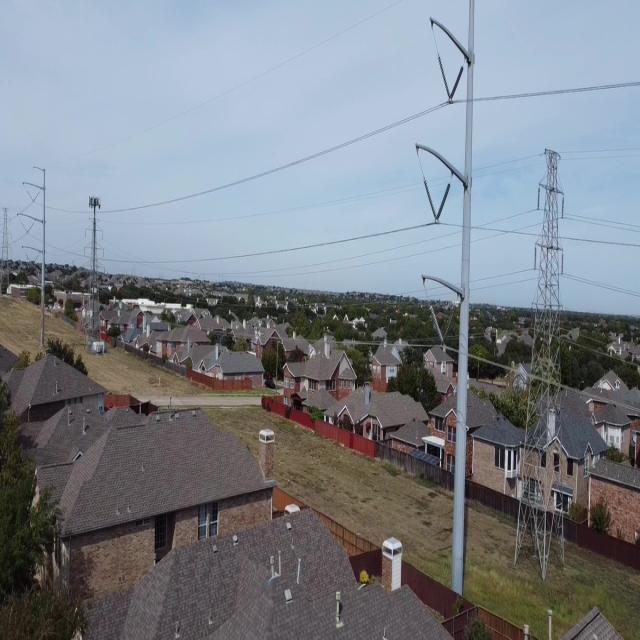杆塔: (508, 138, 576, 581), (80, 191, 112, 353), (0, 204, 13, 298)
正常绝缘子: (434, 301, 460, 366), (431, 40, 455, 110), (429, 174, 457, 233), (416, 167, 441, 228), (425, 296, 450, 353), (443, 61, 469, 115), (530, 238, 540, 274), (558, 242, 567, 280), (535, 177, 542, 214), (559, 197, 567, 228), (530, 302, 533, 328), (561, 305, 564, 331), (102, 248, 105, 258), (83, 246, 85, 256), (102, 231, 104, 240), (10, 218, 12, 226), (10, 233, 12, 240), (85, 228, 86, 237), (104, 267, 105, 276), (11, 247, 12, 255)
